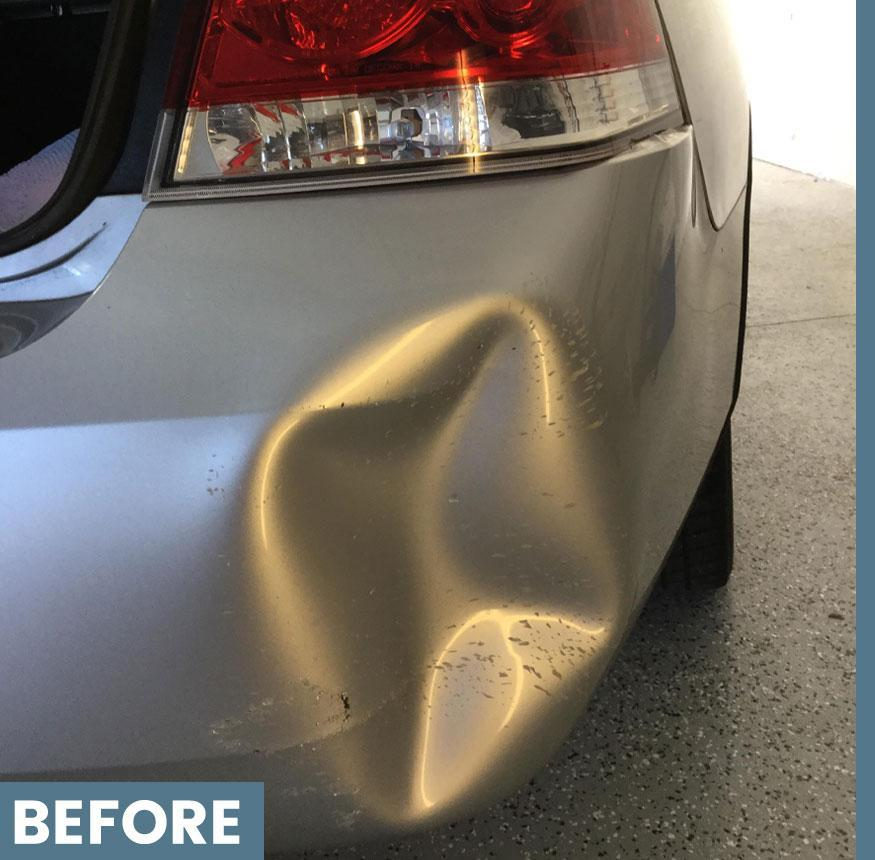dent: (240, 283, 648, 814)
